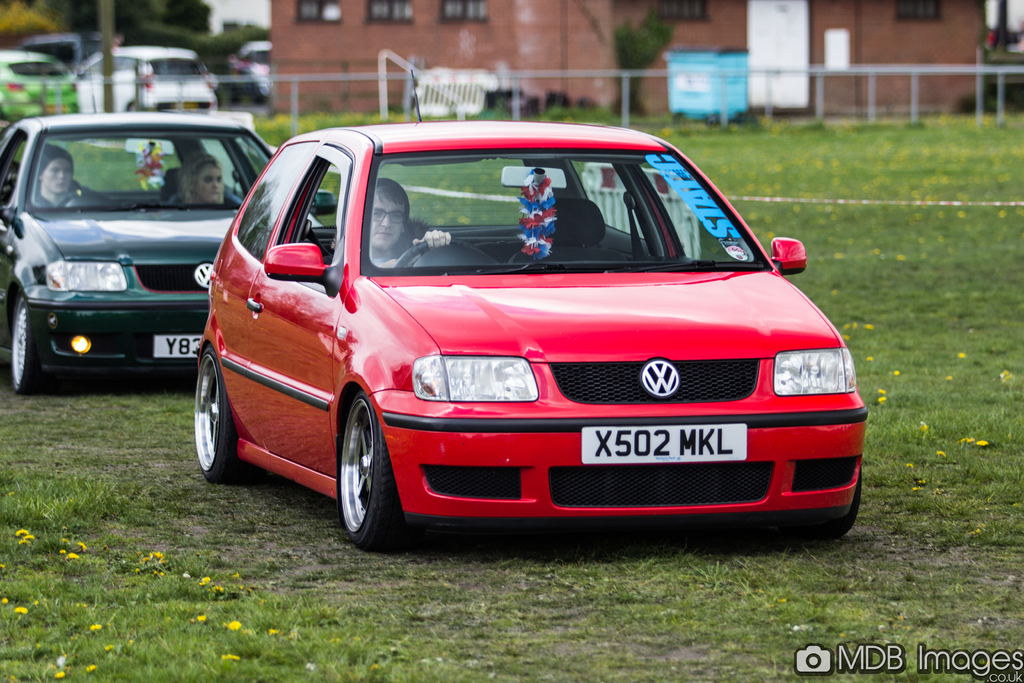Car: (168, 120, 868, 553), (0, 114, 280, 394), (75, 51, 219, 119), (0, 48, 81, 119)
